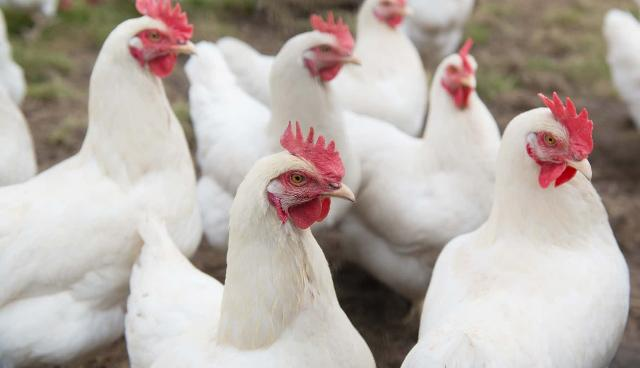Chicken: (0, 0, 199, 368), (401, 92, 631, 368), (125, 120, 377, 368), (340, 38, 503, 324), (185, 11, 361, 248), (341, 1, 430, 136)
